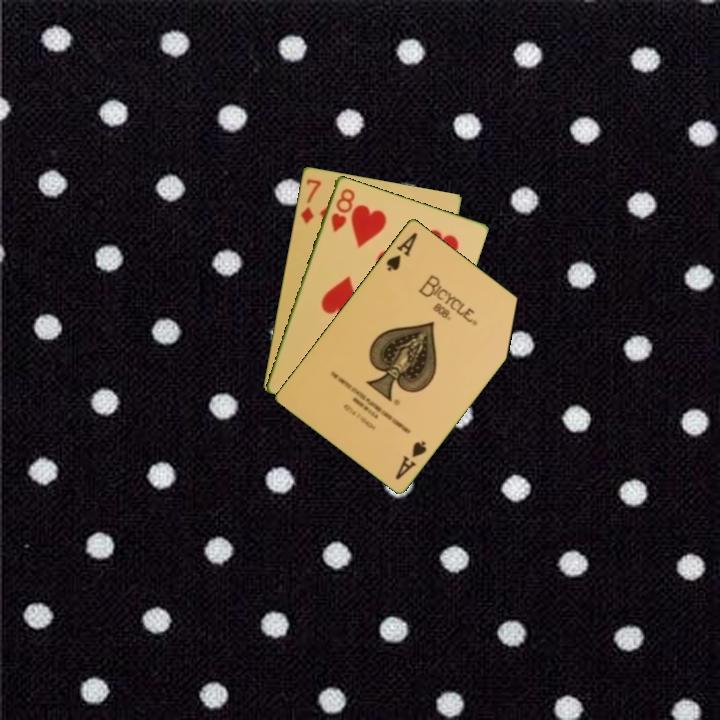7d: (297, 175, 324, 226)
8h: (327, 184, 358, 234)
As: (392, 437, 430, 482), (383, 228, 420, 274)
